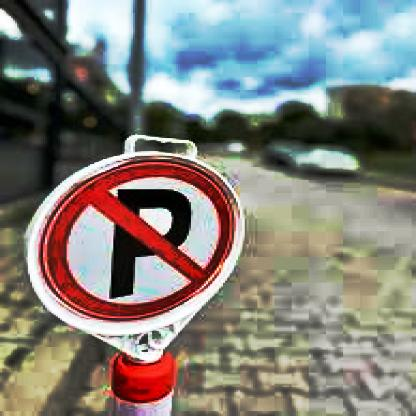No parking: (42, 156, 243, 328)
